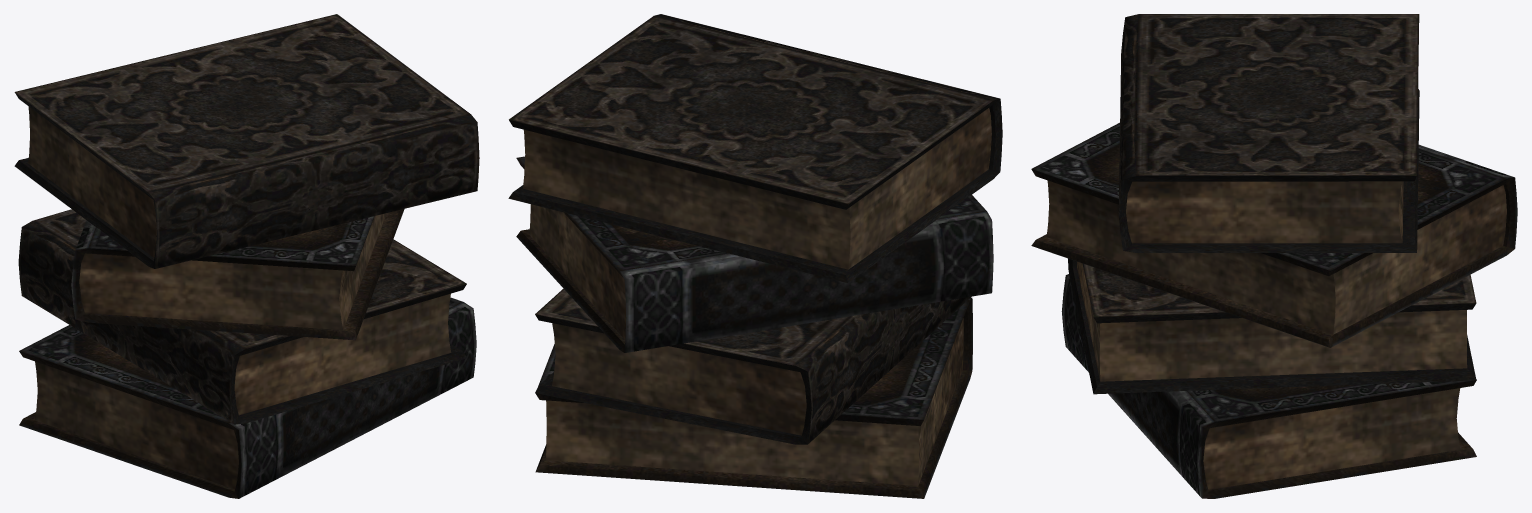
The model's file is tome_pile02.dae.
The picture shows the model from 3 angles, left to right: view 1: azimuth 30°, elevation 25°; view 2: azimuth 150°, elevation 25°; view 3: azimuth 270°, elevation 25°; orthographic projection. The views are drawn at different scales.
Visible parts, largest first — view 1: polySurface6; view 2: polySurface6; view 3: polySurface6.
Part boxes in pixels (x1,y1,x2,y2): polySurface6: [14, 14, 479, 498]; polySurface6: [508, 14, 1002, 498]; polySurface6: [1031, 14, 1517, 498].
Bounding box in the file's own units: 0.5557 × 0.3993 × 0.5708.
